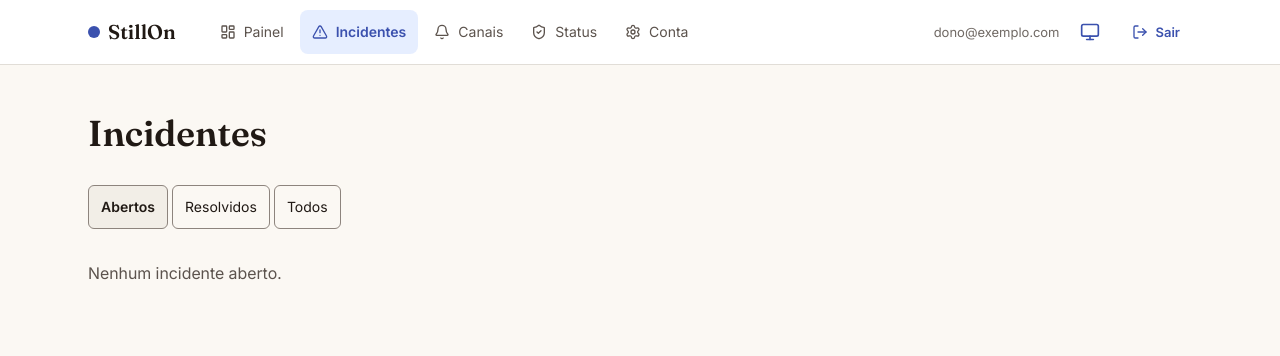
Test: incidentes › o filtro vai para a URL e muda a consulta
Click the button "Resolvidos".
click(221, 207)  # box [172,185,270,229]
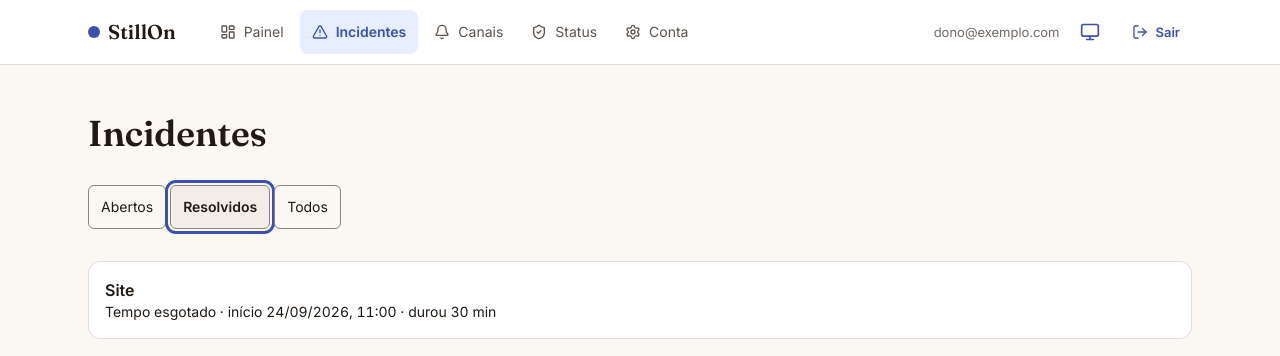
Now the text "Tempo esgotado · início 24/09/2026, 11:00 · durou 30 min" is shown, box [105,302,496,322]
